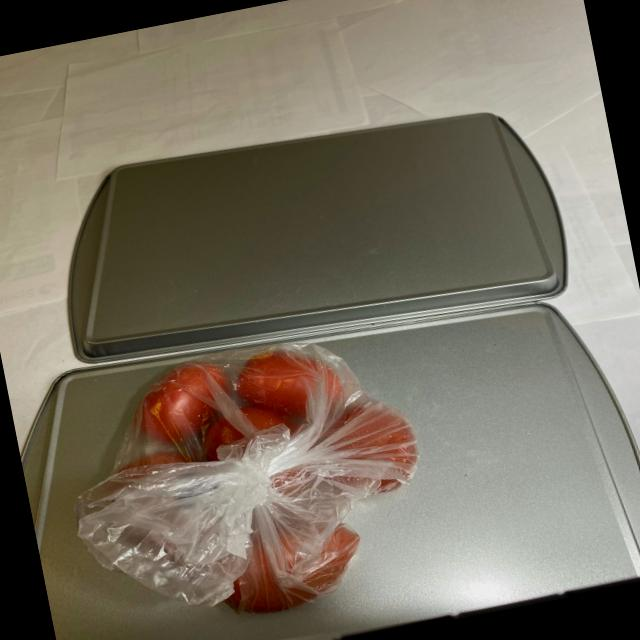tomato: (87, 323, 437, 639)
